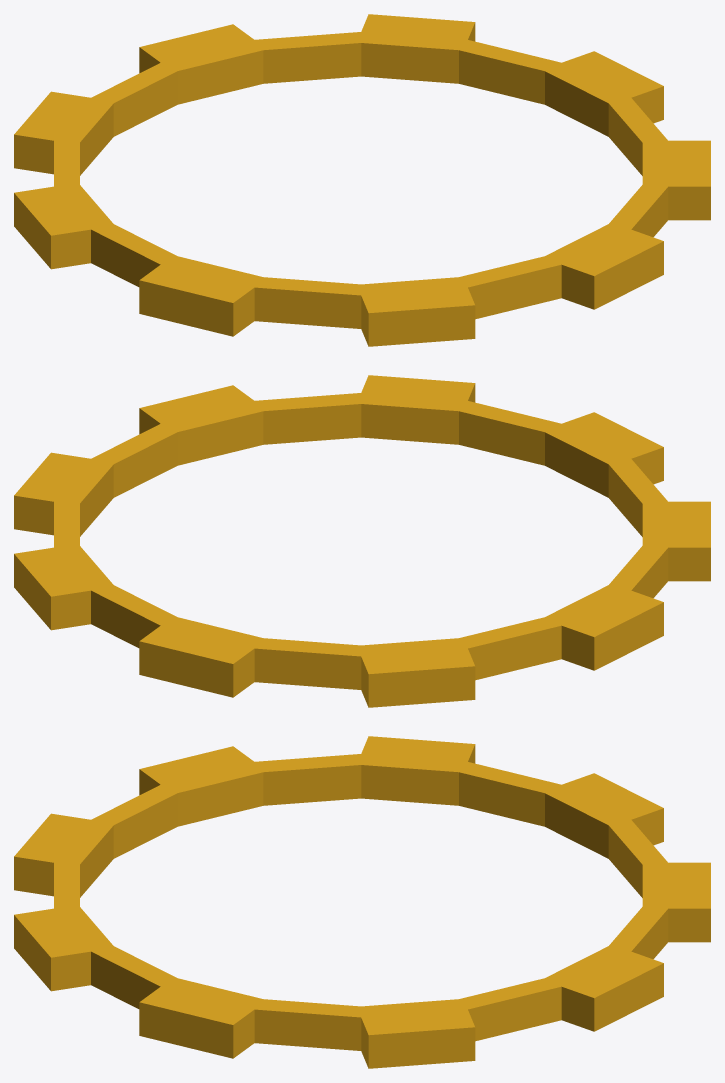
The model's file is haguruma_b1.fbx.
3 renders of one model, top to bottom at view 1: azimuth 30°, elevation 25°; view 2: azimuth 150°, elevation 25°; view 3: azimuth 270°, elevation 25°, orthographic.
Parts seen in each view (by area): view 1: Cylinder001; view 2: Cylinder001; view 3: Cylinder001.
Part boxes in pixels (x1,y1,x2,y2): Cylinder001: [14, 14, 710, 346]; Cylinder001: [14, 375, 710, 707]; Cylinder001: [14, 736, 710, 1068].
Bounding box in the file's own units: 133 × 6.96 × 131.
